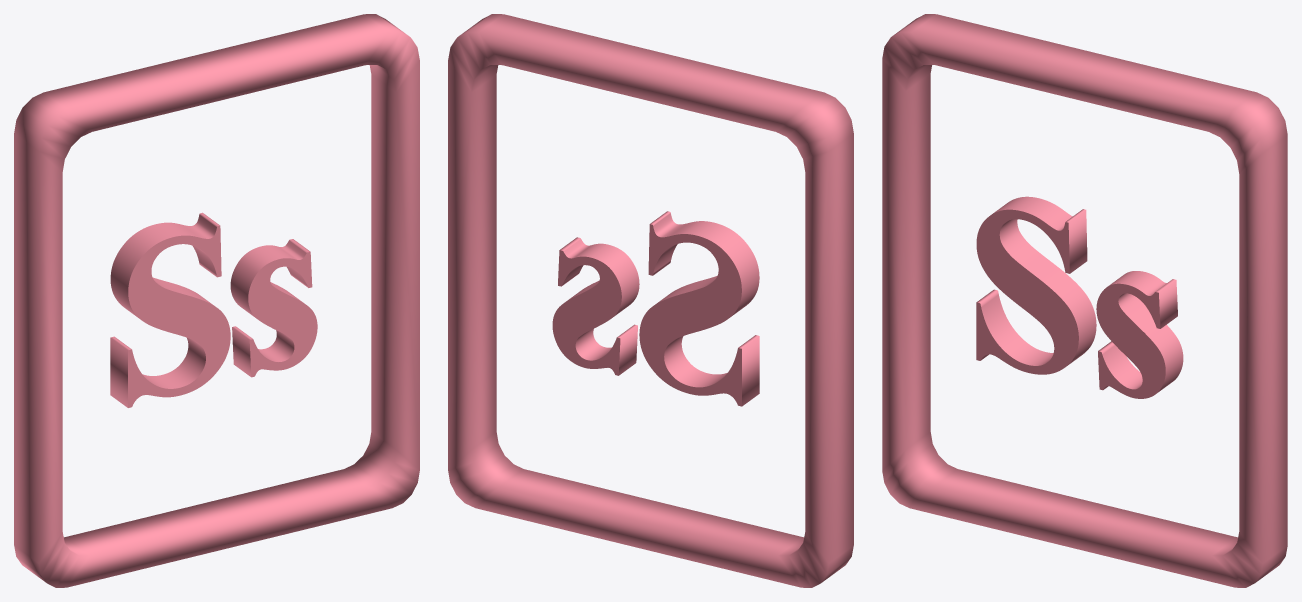
Rendered from Letter_S.gltf.
3 views of the same model, side by side, from view 1: azimuth 30°, elevation 25°; view 2: azimuth 150°, elevation 25°; view 3: azimuth 330°, elevation 25° (orthographic).
Parts seen in each view (by area): view 1: Letters.020; view 2: Letters.020; view 3: Letters.020.
Boxes of the visible parts, left/top/right/bottom form: Letters.020: left=14, top=14, right=419, bottom=587; Letters.020: left=448, top=14, right=853, bottom=587; Letters.020: left=882, top=14, right=1287, bottom=587.
Size of the model in its own units: 1.25 by 1.49 by 0.1418.
